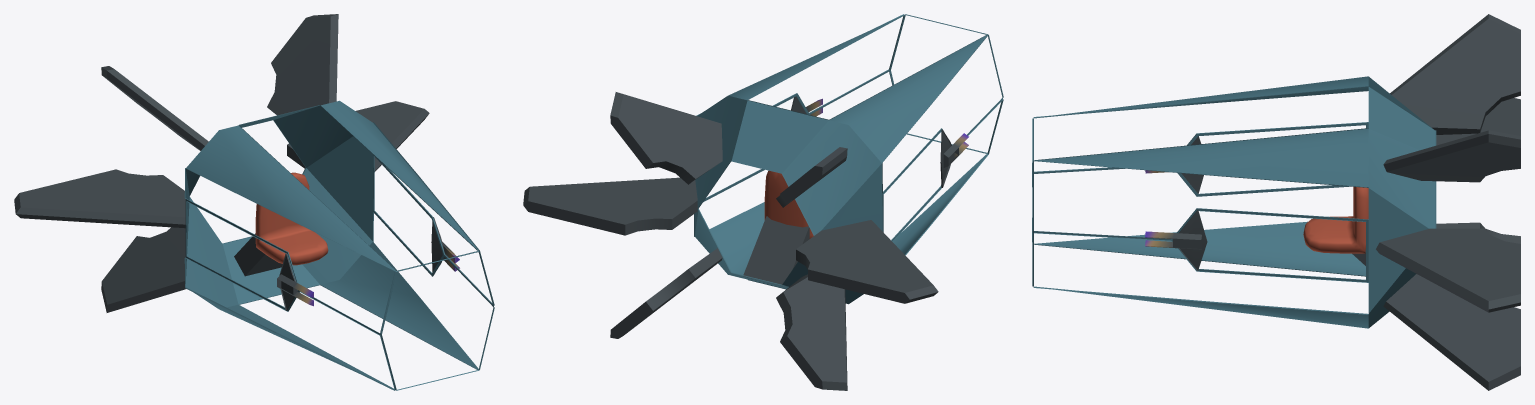
File: shipV3.fbx
3 renders of one model, left to right at view 1: azimuth 30°, elevation 25°; view 2: azimuth 150°, elevation 25°; view 3: azimuth 270°, elevation 25°, orthographic. The views are drawn at different scales.
Parts seen in each view (by area): view 1: ship; view 2: ship; view 3: ship.
Part boxes in pixels (left/top/right/bottom): ship: left=14, top=14, right=494, bottom=390; ship: left=523, top=14, right=1003, bottom=390; ship: left=1032, top=14, right=1520, bottom=390.
Bounding box in the file's own units: 365 × 204 × 352.
